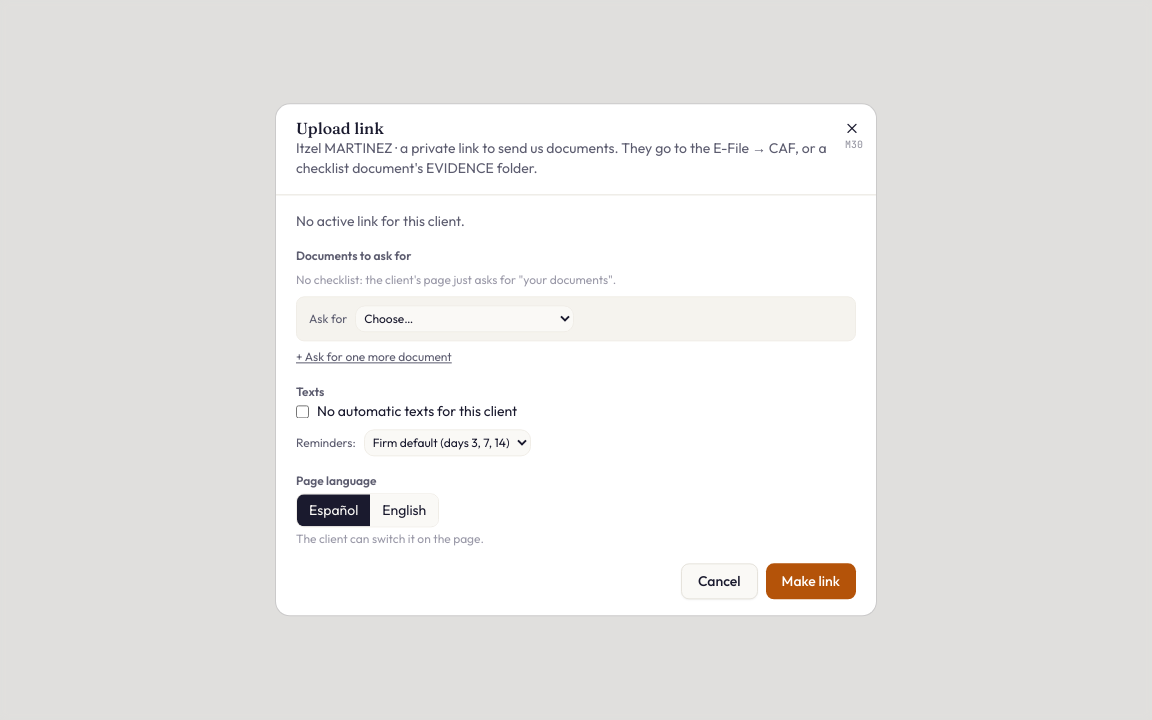
Test: UploadLinkModal › no phone on file: Text it is off
Click the button "Make link": (811, 582) [766,564,856,600]
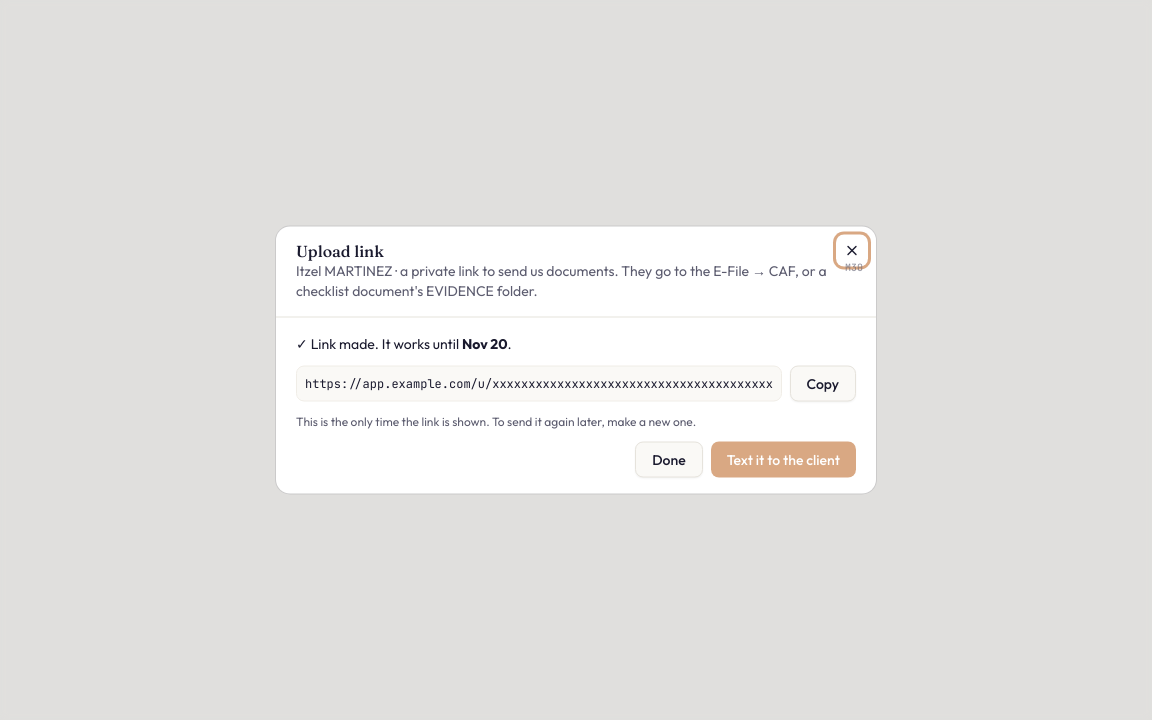
Expected: the button "Text it to the client" is disabled, [711,442,856,478]
